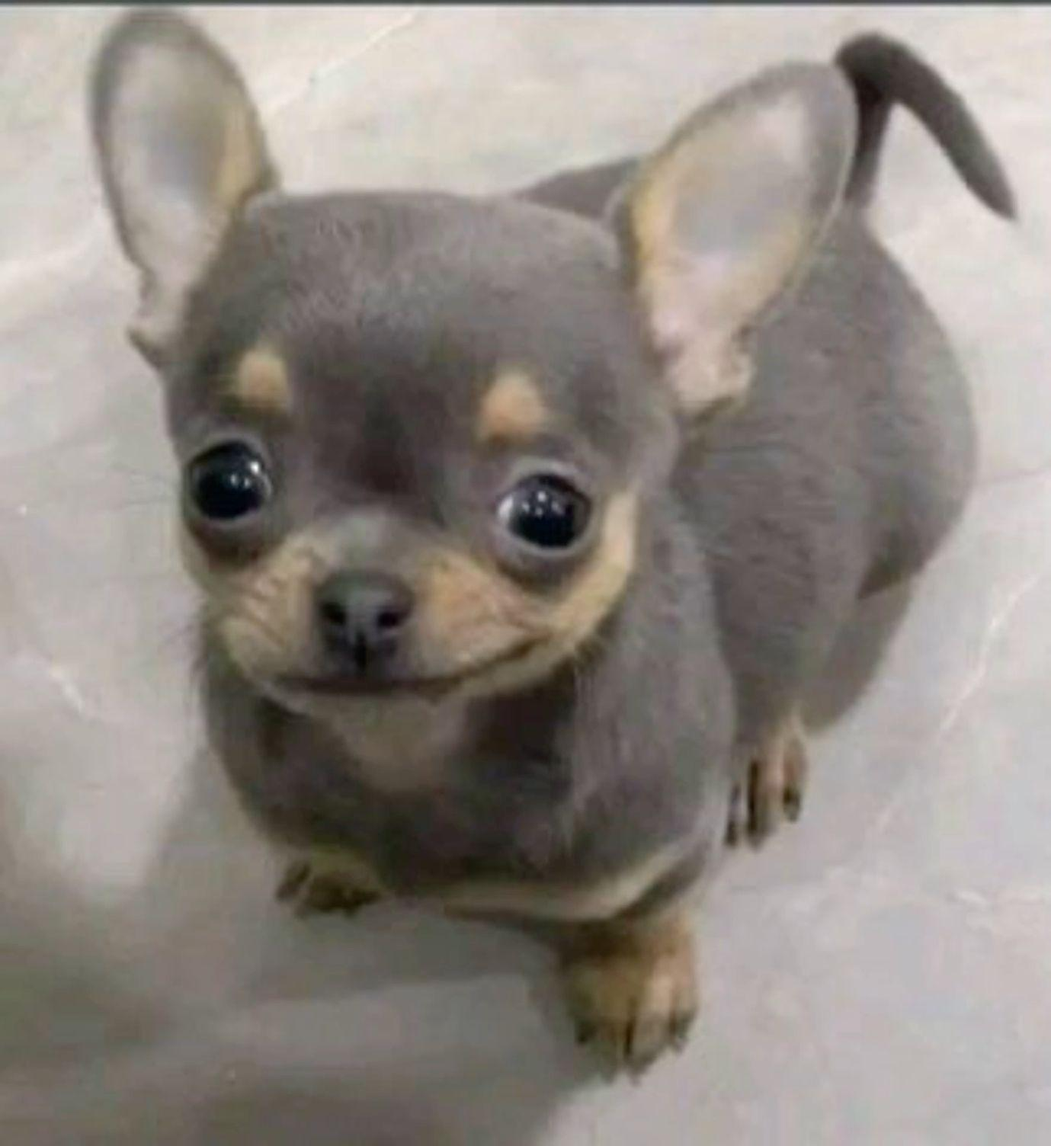puppy-dog: (83, 6, 1017, 1082)
